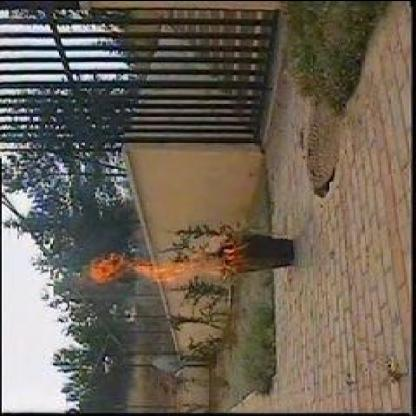foggia-v2-map80-epoch100 - v1 4323: (84, 230, 244, 280)
